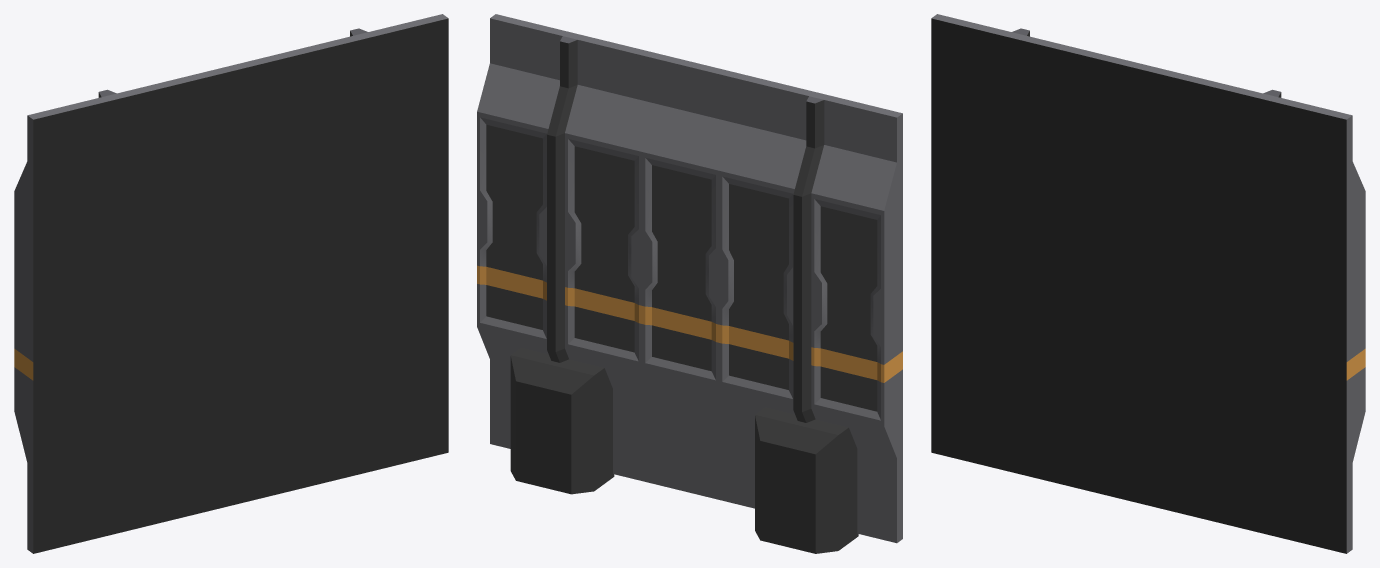
Rendered from SM_Bld_Wall_Exterior_01.fbx.
3 views of the same model, side by side, from view 1: azimuth 30°, elevation 25°; view 2: azimuth 150°, elevation 25°; view 3: azimuth 330°, elevation 25° (orthographic). The views are drawn at different scales.
Visible parts, largest first — view 1: SM_Bld_Wall_Exterior_01_LOD0; view 2: SM_Bld_Wall_Exterior_01_LOD0; view 3: SM_Bld_Wall_Exterior_01_LOD0.
Boxes of the visible parts, bbox=[...] form: SM_Bld_Wall_Exterior_01_LOD0: bbox=[14, 14, 448, 553]; SM_Bld_Wall_Exterior_01_LOD0: bbox=[477, 14, 902, 553]; SM_Bld_Wall_Exterior_01_LOD0: bbox=[931, 14, 1365, 553].
Size of the model in its own units: 71.31 by 500 by 504.
Materials: 1 (1 with a texture image).
